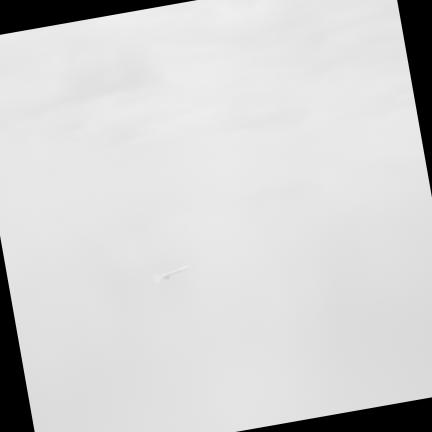Shahed: (155, 265, 188, 284)
